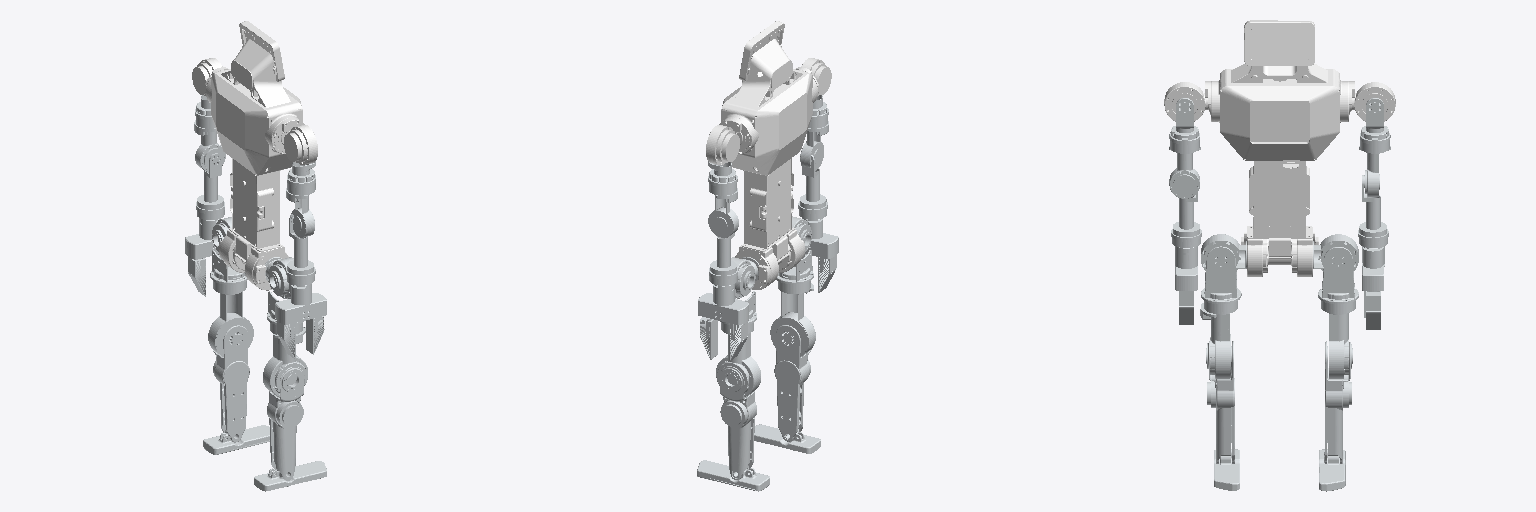
--- Facts derived from the render (not from the file) ---
Views: 3 orthographic renders of the robot side by side, from view 1: azimuth 30°, elevation 25°; view 2: azimuth 150°, elevation 25°; view 3: azimuth 270°, elevation 25°.
Model gpr with 22 links and 21 joints (10 revolute, 11 fixed), rooted at base, posed every joint at zero.
Links seen in each view (by area): view 1: body1-part, leg3_shell2, leg3_shell22, hand_shell_2, hand_shell, leg2_shell, leg2_shell_2, arm3_shell, foot3, shoulder_2, arm3_shell2, foot1 (+7 smaller); view 2: body1-part, leg3_shell22, leg3_shell2, hand_shell, leg2_shell_2, leg2_shell, hand_shell_2, foot1, shoulder, arm3_shell2, foot3, leg1_shell3 (+7 smaller); view 3: body1-part, leg1_shell3, leg1_shell, leg3_shell22, leg3_shell2, hand_shell, hand_shell_2, leg2_shell, leg2_shell_2, arm1_top_2, arm1_top, arm3_shell (+9 smaller).
Boxes of the visible links, <box> form: body1-part: <box>205,21,303,290</box>; leg3_shell2: <box>213,325,249,442</box>; leg3_shell22: <box>267,367,304,480</box>; hand_shell_2: <box>275,284,326,359</box>; hand_shell: <box>185,218,219,296</box>; leg2_shell: <box>208,292,253,356</box>; leg2_shell_2: <box>263,333,307,397</box>; arm3_shell: <box>196,153,224,219</box>; foot3: <box>254,461,326,491</box>; shoulder_2: <box>281,124,317,164</box>; arm3_shell2: <box>286,214,315,285</box>; foot1: <box>203,425,269,454</box>; body1-part: <box>719,21,818,289</box>; leg3_shell22: <box>774,325,811,441</box>; leg3_shell2: <box>720,366,756,479</box>; hand_shell: <box>698,284,748,360</box>; leg2_shell_2: <box>770,292,815,356</box>; leg2_shell: <box>716,333,760,396</box>; hand_shell_2: <box>802,218,838,292</box>; foot1: <box>697,460,769,491</box>; shoulder: <box>706,125,742,164</box>; arm3_shell2: <box>798,155,827,219</box>; foot3: <box>754,424,820,453</box>; leg1_shell3: <box>776,250,813,293</box>; body1-part: <box>1205,20,1354,276</box>; leg1_shell3: <box>1200,246,1241,319</box>; leg1_shell: <box>1318,247,1358,313</box>; leg3_shell22: <box>1207,341,1234,463</box>; leg3_shell2: <box>1324,341,1351,463</box>; hand_shell: <box>1362,246,1384,329</box>; hand_shell_2: <box>1175,246,1197,324</box>; leg2_shell: <box>1329,313,1352,378</box>; leg2_shell_2: <box>1206,313,1230,378</box>; arm1_top_2: <box>1169,98,1200,153</box>; arm1_top: <box>1359,98,1390,153</box>; arm3_shell: <box>1358,175,1388,247</box>.
Size in the robot's own frame: 0.2286 by 0.62 by 1.33 metres.
21 mesh visuals loaded from 21 distinct referenced files (21 binary STL).

robot.urdf — gpr:
<robot name="gpr">
  <link name="base">
    <inertial>
      <origin rpy="0 0 0" xyz="0 0 0" />
      <mass value="0.001" />
      <inertia ixx="0.000001" ixy="0" ixz="0" iyy="0.000001" iyz="0" izz="0.000001" />
    </inertial>
  </link>
  <joint name="floating_base" type="fixed">
    <origin rpy="-1.57 3.14 0" xyz="0 0 0" />
    <parent link="base" />
    <child link="body1-part" />
  </joint>
  <link name="body1-part">
    <visual>
      <origin xyz="0 0 0" rpy="0 0 0" />
      <geometry>
        <mesh filename="meshes/body1-part.stl" />
      </geometry>
      <material name="body1-part_material">
        <color rgba="1 1 1 1" />
      </material>
    </visual>
    <collision>
      <origin xyz="0 0 0" rpy="0 0 0" />
      <geometry>
        <mesh filename="meshes/body1-part.stl" />
      </geometry>
    </collision>
    <inertial>
      <mass value="11.923537116999997" />
      <inertia ixx="0.6094741999000397" iyy="0.11412840895337525" izz="0.5177574671371762" ixy="-0.003005393131294116" ixz="9.390121873576349e-05" iyz="-0.0001512369384358593" />
      <origin xyz="-0.009887620467425699 -0.16327683151976047 8.549441372045392e-06" rpy="0 0 0" />
    </inertial>
  </link>
  <joint name="Revolute_2" type="fixed">
    <origin xyz="-1.0603759e-05 0.018089562050771318 0.18749980999999996" rpy="3.1415926071795868 -2.220446049250313e-15 3.1415926071795868" />
    <parent link="body1-part" />
    <child link="shoulder" />
    <limit effort="80" velocity="5" lower="0" upper="3.1415927" />
    <axis xyz="0 0 1" />
  </joint>
  <link name="shoulder">
    <visual>
      <origin xyz="0 0 0" rpy="0 0 0" />
      <geometry>
        <mesh filename="meshes/shoulder.stl" />
      </geometry>
      <material name="shoulder_material">
        <color rgba="1 1 1 1" />
      </material>
    </visual>
    <collision>
      <origin xyz="0 0 0" rpy="0 0 0" />
      <geometry>
        <mesh filename="meshes/shoulder.stl" />
      </geometry>
    </collision>
    <inertial>
      <mass value="1.10769407" />
      <inertia ixx="0.0014821199757753395" iyy="0.001040851235294" izz="0.0009860091656447962" ixy="1.624746856405567e-08" ixz="-3.127980791901951e-06" iyz="6.45482418632759e-09" />
      <origin xyz="-0.002143291631555541 5.49830379711586e-05 -0.06646243607358847" rpy="0 0 0" />
    </inertial>
  </link>
  <joint name="Revolute_1" type="fixed">
    <origin xyz="-1.0603759e-05 0.018089564 -0.18750019" rpy="0.0 0.0 -3.1415926071795863" />
    <parent link="body1-part" />
    <child link="shoulder_2" />
    <limit effort="80" velocity="5" lower="0" upper="3.1415927" />
    <axis xyz="0 0 1" />
  </joint>
  <link name="shoulder_2">
    <visual>
      <origin xyz="0 0 0" rpy="0 0 0" />
      <geometry>
        <mesh filename="meshes/shoulder_2.stl" />
      </geometry>
      <material name="shoulder_material_2">
        <color rgba="1 1 1 1" />
      </material>
    </visual>
    <collision>
      <origin xyz="0 0 0" rpy="0 0 0" />
      <geometry>
        <mesh filename="meshes/shoulder_2.stl" />
      </geometry>
    </collision>
    <inertial>
      <mass value="0.80769287" />
      <inertia ixx="0.0011792586289751219" iyy="0.0008139382028437117" izz="0.0007595397085139113" ixy="-1.4806694512879907e-08" ixz="-2.0126957646616794e-06" iyz="-5.88160584234692e-09" />
      <origin xyz="-0.0011728635136190931 -5.4507593837340316e-05 -0.06607710354553893" rpy="0 0 0" />
    </inertial>
  </link>
  <joint name="L_hip_y" type="revolute">
    <origin xyz="-0.008010608503738428 -0.43201043179234816 0.0877000068648673" rpy="-3.1415925071795874 4.641020678874952e-08 -3.1415926535897913" />
    <parent link="body1-part" />
    <child link="leg0_shell" />
    <limit effort="100" velocity="15" lower="-1.5707963" upper="1.5707963" />
    <axis xyz="0 0 -1" />
  <dynamics damping="0.0" friction="0" /></joint>
  <link name="leg0_shell">
    <visual>
      <origin xyz="0 0 0" rpy="0 0 0" />
      <geometry>
        <mesh filename="meshes/leg0_shell.stl" />
      </geometry>
      <material name="leg0_shell_material">
        <color rgba="0.89803922 0.91764706 0.92941176 1" />
      </material>
    </visual>
    <collision>
      <origin xyz="0 0 0" rpy="0 0 0" />
      <geometry>
        <mesh filename="meshes/leg0_shell.stl" />
      </geometry>
    </collision>
    <inertial>
      <mass value="1.3234480570000002" />
      <inertia ixx="0.0018858182013085161" iyy="0.001424832171389183" izz="0.0012997049050806671" ixy="-4.528695728174104e-12" ixz="7.006193648128378e-06" iyz="-9.656589772176694e-13" />
      <origin xyz="-0.003746324486178213 -5.30704079226868e-10 -0.06812512159159122" rpy="0 0 0" />
    </inertial>
  </link>
  <joint name="R_hip_y" type="revolute">
    <origin xyz="-0.008010600340183055 -0.4320104467591277 -0.08819999313513187" rpy="9.99999991702083e-08 4.641020678874952e-08 -3.1415926535897913" />
    <parent link="body1-part" />
    <child link="leg0_shell_2" />
    <limit effort="100" velocity="15" lower="-1.5707963" upper="1.5707963" />
    <axis xyz="0 0 -1" />
  <dynamics damping="0.0" friction="0" /></joint>
  <link name="leg0_shell_2">
    <visual>
      <origin xyz="0 0 0" rpy="0 0 0" />
      <geometry>
        <mesh filename="meshes/leg0_shell_2.stl" />
      </geometry>
      <material name="leg0_shell_material_2">
        <color rgba="0.89803922 0.91764706 0.92941176 1" />
      </material>
    </visual>
    <collision>
      <origin xyz="0 0 0" rpy="0 0 0" />
      <geometry>
        <mesh filename="meshes/leg0_shell_2.stl" />
      </geometry>
    </collision>
    <inertial>
      <mass value="1.3234480570000002" />
      <inertia ixx="0.0018858182013085161" iyy="0.001424832171389183" izz="0.0012997049050806671" ixy="-4.528695728174104e-12" ixz="7.006193648128378e-06" iyz="-9.656589772176694e-13" />
      <origin xyz="-0.003746324486178213 -5.30704079226868e-10 -0.06812512159159122" rpy="0 0 0" />
    </inertial>
  </link>
  <joint name="Revolute_4" type="fixed">
    <origin xyz="0.022511964 5.627838501275855e-05 -0.06749999993301277" rpy="1.5707963 0.0 1.5707963" />
    <parent link="shoulder" />
    <child link="arm1_top" />
    <limit effort="80" velocity="5" lower="-0.47996554" upper="3.6302848" />
    <axis xyz="0 0 -1" />
  </joint>
  <link name="arm1_top">
    <visual>
      <origin xyz="0 0 0" rpy="0 0 0" />
      <geometry>
        <mesh filename="meshes/arm1_top.stl" />
      </geometry>
      <material name="arm1_top_material">
        <color rgba="0.89803922 0.91764706 0.92941176 1" />
      </material>
    </visual>
    <collision>
      <origin xyz="0 0 0" rpy="0 0 0" />
      <geometry>
        <mesh filename="meshes/arm1_top.stl" />
      </geometry>
    </collision>
    <inertial>
      <mass value="0.6485195170000001" />
      <inertia ixx="0.0005377398175310449" iyy="0.001254174807555457" izz="0.0012373492426626042" ixy="8.437687433345447e-05" ixz="-0.00020918694211119067" iyz="7.877578190500829e-06" />
      <origin xyz="-0.10491673239989494 0.003102558814221409 -0.019599933577279183" rpy="0 0 0" />
    </inertial>
  </link>
  <joint name="Revolute_3" type="fixed">
    <origin xyz="0.022511964 -5.627838501275855e-05 -0.06749999993301277" rpy="1.5707963999999996 -2.220446049250313e-16 -1.5707963000000003" />
    <parent link="shoulder_2" />
    <child link="arm1_top_2" />
    <limit effort="80" velocity="5" lower="-0.47996554" upper="3.6302848" />
    <axis xyz="0 0 1" />
  </joint>
  <link name="arm1_top_2">
    <visual>
      <origin xyz="0 0 0" rpy="0 0 0" />
      <geometry>
        <mesh filename="meshes/arm1_top_2.stl" />
      </geometry>
      <material name="arm1_top_2_material">
        <color rgba="0.89803922 0.91764706 0.92941176 1" />
      </material>
    </visual>
    <collision>
      <origin xyz="0 0 0" rpy="0 0 0" />
      <geometry>
        <mesh filename="meshes/arm1_top_2.stl" />
      </geometry>
    </collision>
    <inertial>
      <mass value="0.648518913" />
      <inertia ixx="0.0005377391149778151" iyy="0.001254173379289188" izz="0.0012373477976337262" ixy="8.437443480959081e-05" ixz="0.00020918783773267628" iyz="-7.877191877842607e-06" />
      <origin xyz="-0.10491675887597174 0.0031026275866948847 0.01859990424787625" rpy="0 0 0" />
    </inertial>
  </link>
  <joint name="L_hip_x" type="revolute">
    <origin xyz="0.02649999999999997 -1.5165911463888016e-09 -0.06950000151659115" rpy="-1.5707963 0.0 1.5707963" />
    <parent link="leg0_shell" />
    <child link="leg1_shell" />
    <limit effort="40" velocity="15" lower="-0.34906585" upper="3.1852259" />
    <axis xyz="0 0 1" />
  <dynamics damping="0.0" friction="0" /></joint>
  <link name="leg1_shell">
    <visual>
      <origin xyz="0 0 0" rpy="0 0 0" />
      <geometry>
        <mesh filename="meshes/leg1_shell.stl" />
      </geometry>
      <material name="leg1_shell_material">
        <color rgba="0.89803922 0.91764706 0.92941176 1" />
      </material>
    </visual>
    <collision>
      <origin xyz="0 0 0" rpy="0 0 0" />
      <geometry>
        <mesh filename="meshes/leg1_shell.stl" />
      </geometry>
    </collision>
    <inertial>
      <mass value="1.360769512" />
      <inertia ixx="0.0016615513462477837" iyy="0.002821853448229639" izz="0.002845662161278446" ixy="0.00017383610571493636" ixz="0.0003020245997305346" iyz="-9.263147597316123e-06" />
      <origin xyz="-0.11647102759639934 0.0031434685984449424 0.025411038661602842" rpy="0 0 0" />
    </inertial>
  </link>
  <joint name="R_hip_x" type="revolute">
    <origin xyz="0.02649999999999997 -1.5165911463888016e-09 -0.06950000151659115" rpy="1.5707963 -4.641020634466031e-08 -1.5707963535897922" />
    <parent link="leg0_shell_2" />
    <child link="leg1_shell3" />
    <limit effort="40" velocity="15" lower="-0.34906585" upper="3.1852259" />
    <axis xyz="0 0 1" />
  <dynamics damping="0.0" friction="0" /></joint>
  <link name="leg1_shell3">
    <visual>
      <origin xyz="0 0 0" rpy="0 0 0" />
      <geometry>
        <mesh filename="meshes/leg1_shell3.stl" />
      </geometry>
      <material name="leg1_shell3_material">
        <color rgba="0.89803922 0.91764706 0.92941176 1" />
      </material>
    </visual>
    <collision>
      <origin xyz="0 0 0" rpy="0 0 0" />
      <geometry>
        <mesh filename="meshes/leg1_shell3.stl" />
      </geometry>
    </collision>
    <inertial>
      <mass value="1.360769362" />
      <inertia ixx="0.0016615511179272748" iyy="0.0027972595171853708" izz="0.0028210681136601255" ixy="-0.00016529929515746682" ixz="0.00030152306354767384" iyz="9.263236451942972e-06" />
      <origin xyz="-0.11629451715520467 -0.0031434770887895404 0.02541103395361007" rpy="0 0 0" />
    </inertial>
  </link>
  <joint name="Revolute_5" type="fixed">
    <origin xyz="-0.13949999999999996 -1.4619215099879723e-09 -0.02349999915596076" rpy="-1.5707963535897926 -2.6794894969484062e-08 -1.5707962803846895" />
    <parent link="arm1_top" />
    <child link="arm2_shell" />
    <limit effort="80" velocity="5" lower="-1.5707963" upper="1.5707963" />
    <axis xyz="0 0 1" />
  </joint>
  <link name="arm2_shell">
    <visual>
      <origin xyz="0 0 0" rpy="0 0 0" />
      <geometry>
        <mesh filename="meshes/arm2_shell.stl" />
      </geometry>
      <material name="arm2_shell_material">
        <color rgba="0.89803922 0.91764706 0.92941176 1" />
      </material>
    </visual>
    <collision>
      <origin xyz="0 0 0" rpy="0 0 0" />
      <geometry>
        <mesh filename="meshes/arm2_shell.stl" />
      </geometry>
    </collision>
    <inertial>
      <mass value="0.51101595" />
      <inertia ixx="0.0006782501033956834" iyy="0.0005353980560191654" izz="0.000254883921623482" ixy="0.0" ixz="-6.066717667565765e-06" iyz="0.0" />
      <origin xyz="-0.0063350323524262436 0.0 -0.09042107492219607" rpy="0 0 0" />
    </inertial>
  </link>
  <joint name="Revolute_6" type="fixed">
    <origin xyz="-0.13949999999999999 0.0 0.022499999155960758" rpy="-3.1415926071795863 1.5707963 0.0" />
    <parent link="arm1_top_2" />
    <child link="arm2_shell_2" />
    <limit effort="80" velocity="5" lower="-1.5707963" upper="1.5707963" />
    <axis xyz="0 0 -1" />
  </joint>
  <link name="arm2_shell_2">
    <visual>
      <origin xyz="0 0 0" rpy="0 0 0" />
      <geometry>
        <mesh filename="meshes/arm2_shell_2.stl" />
      </geometry>
      <material name="arm2_shell_material_2">
        <color rgba="0.89803922 0.91764706 0.92941176 1" />
      </material>
    </visual>
    <collision>
      <origin xyz="0 0 0" rpy="0 0 0" />
      <geometry>
        <mesh filename="meshes/arm2_shell_2.stl" />
      </geometry>
    </collision>
    <inertial>
      <mass value="0.51101595" />
      <inertia ixx="0.0005353980541370302" iyy="0.0006782501015135483" izz="0.000254883921623482" ixy="-2.5919842726528573e-12" ixz="9.410675605202726e-13" iyz="6.066715075581427e-06" />
      <origin xyz="-2.42984583304936e-10 -0.006335032352426242 0.08992107467921147" rpy="0 0 0" />
    </inertial>
  </link>
  <joint name="L_hip_z" type="revolute">
    <origin xyz="-0.15649999999999997 0.0 0.027499998483408852" rpy="-0.0 1.5707963 0.0" />
    <parent link="leg1_shell" />
    <child link="leg2_shell" />
    <limit effort="40" velocity="15" lower="-1.5707963" upper="1.5707963" />
    <axis xyz="0 0 1" />
  <dynamics damping="0.0" friction="0" /></joint>
  <link name="leg2_shell">
    <visual>
      <origin xyz="0 0 0" rpy="0 0 0" />
      <geometry>
        <mesh filename="meshes/leg2_shell.stl" />
      </geometry>
      <material name="leg2_shell_material">
        <color rgba="0.89803922 0.91764706 0.92941176 1" />
      </material>
    </visual>
    <collision>
      <origin xyz="0 0 0" rpy="0 0 0" />
      <geometry>
        <mesh filename="meshes/leg2_shell.stl" />
      </geometry>
    </collision>
    <inertial>
      <mass value="1.820922667" />
      <inertia ixx="0.003118121982315594" iyy="0.004225341330146898" izz="0.0020643672406963944" ixy="-6.676045962463134e-09" ixz="-2.2416298133304992e-08" iyz="-3.3507405748121275e-05" />
      <origin xyz="4.0855477721508534e-07 0.0005316844118462806 -0.13730778343676694" rpy="0 0 0" />
    </inertial>
  </link>
  <joint name="R_hip_z" type="revolute">
    <origin xyz="-0.15649999999999997 0.0 0.027499998483408852" rpy="-3.1415926535897922 -1.5707962732050302 0.0" />
    <parent link="leg1_shell3" />
    <child link="leg2_shell_2" />
    <limit effort="40" velocity="15" lower="-1.5707963" upper="1.5707963" />
    <axis xyz="0 0 1" />
  <dynamics damping="0.0" friction="0" /></joint>
  <link name="leg2_shell_2">
    <visual>
      <origin xyz="0 0 0" rpy="0 0 0" />
      <geometry>
        <mesh filename="meshes/leg2_shell_2.stl" />
      </geometry>
      <material name="leg2_shell_material_2">
        <color rgba="0.89803922 0.91764706 0.92941176 1" />
      </material>
    </visual>
    <collision>
      <origin xyz="0 0 0" rpy="0 0 0" />
      <geometry>
        <mesh filename="meshes/leg2_shell_2.stl" />
      </geometry>
    </collision>
    <inertial>
      <mass value="1.820922667" />
      <inertia ixx="0.003118121982315594" iyy="0.004225341330146898" izz="0.0020643672406963944" ixy="-6.676045962463134e-09" ixz="-2.2416298133304992e-08" iyz="-3.3507405748121275e-05" />
      <origin xyz="4.0855477721508534e-07 0.0005316844118462806 -0.13730778343676694" rpy="0 0 0" />
    </inertial>
  </link>
  <joint name="Revolute_8" type="fixed">
    <origin xyz="-0.026000000000000002 0.0 -0.09799999977224338" rpy="-3.1415926071795863 -1.5707963 0.0" />
    <parent link="arm2_shell" />
    <child link="arm3_shell" />
    <limit effort="80" velocity="5" lower="-2.0943951" upper="2.0943951" />
    <axis xyz="0 0 1" />
  </joint>
  <link name="arm3_shell">
    <visual>
      <origin xyz="0 0 0" rpy="0 0 0" />
      <geometry>
        <mesh filename="meshes/arm3_shell.stl" />
      </geometry>
      <material name="arm3_shell_material">
        <color rgba="0.89803922 0.91764706 0.92941176 1" />
      </material>
    </visual>
    <collision>
      <origin xyz="0 0 0" rpy="0 0 0" />
      <geometry>
        <mesh filename="meshes/arm3_shell.stl" />
      </geometry>
    </collision>
    <inertial>
      <mass value="0.57887479" />
      <inertia ixx="0.00042824885963562435" iyy="0.0013607750713956906" izz="0.001338486101760066" ixy="-4.3783991313169864e-14" ixz="0.0001451523224848915" iyz="4.4680616691403507e-13" />
      <origin xyz="-0.14008673576280925 -3.715266367753274e-10 0.019422482836149137" rpy="0 0 0" />
    </inertial>
  </link>
  <joint name="Revolute_7" type="fixed">
    <origin xyz="2.2775662092411332e-10 -0.026000000000000002 0.0975" rpy="-1.5707963071795865 1.5707963 0.0" />
    <parent link="arm2_shell_2" />
    <child link="arm3_shell2" />
    <limit effort="80" velocity="5" lower="-2.0943951" upper="2.0943951" />
    <axis xyz="0 0 1" />
  </joint>
  <link name="arm3_shell2">
    <visual>
      <origin xyz="0 0 0" rpy="0 0 0" />
      <geometry>
        <mesh filename="meshes/arm3_shell2.stl" />
      </geometry>
      <material name="arm3_shell2_material">
        <color rgba="0.89803922 0.91764706 0.92941176 1" />
      </material>
    </visual>
    <collision>
      <origin xyz="0 0 0" rpy="0 0 0" />
      <geometry>
        <mesh filename="meshes/arm3_shell2.stl" />
      </geometry>
    </collision>
    <inertial>
      <mass value="0.57887479" />
      <inertia ixx="0.00042824885963562435" iyy="0.0013607750713956906" izz="0.001338486101760066" ixy="-4.3783991313169864e-14" ixz="0.0001451523224848915" iyz="4.4680616691403507e-13" />
      <origin xyz="-0.14008673576280925 -3.715266367753274e-10 0.019422482836149137" rpy="0 0 0" />
    </inertial>
  </link>
  <joint name="L_knee" type="revolute">
    <origin xyz="0.0 0.0342 -0.14250000009378214" rpy="1.5707963000000003 0.0 0.0" />
    <parent link="leg2_shell" />
    <child link="leg3_shell2" />
    <limit effort="100" velocity="15" lower="-1.57" upper="0" />
    <axis xyz="0 0 1" />
  <dynamics damping="0.0" friction="0" /></joint>
  <link name="leg3_shell2">
    <visual>
      <origin xyz="0 0 0" rpy="0 0 0" />
      <geometry>
        <mesh filename="meshes/leg3_shell2.stl" />
      </geometry>
      <material name="leg3_shell2_material">
        <color rgba="0.89803922 0.91764706 0.92941176 1" />
      </material>
    </visual>
    <collision>
      <origin xyz="0 0 0" rpy="0 0 0" />
      <geometry>
        <mesh filename="meshes/leg3_shell2.stl" />
      </geometry>
    </collision>
    <inertial>
      <mass value="1.179677561" />
      <inertia ixx="0.007528021940166368" iyy="0.0011236273981275156" izz="0.007505076656997991" ixy="6.871058258502185e-05" ixz="-1.92682149888721e-05" iyz="0.00022981113471710275" />
      <origin xyz="0.0010329853873719736 -0.1254795525920513 0.03667110282750395" rpy="0 0 0" />
    </inertial>
  </link>
  <joint name="R_knee" type="revolute">
    <origin xyz="0.0 0.0342 -0.14250000009378214" rpy="1.5707963000000003 0.0 0.0" />
    <parent link="leg2_shell_2" />
    <child link="leg3_shell22" />
    <limit effort="100" velocity="15" lower="0" upper="1.57" />
    <axis xyz="0 0 1" />
  <dynamics damping="0.0" friction="0" /></joint>
  <link name="leg3_shell22">
    <visual>
      <origin xyz="0 0 0" rpy="0 0 0" />
      <geometry>
        <mesh filename="meshes/leg3_shell22.stl" />
      </geometry>
      <material name="leg3_shell22_material">
        <color rgba="0.89803922 0.91764706 0.92941176 1" />
      </material>
    </visual>
    <collision>
      <origin xyz="0 0 0" rpy="0 0 0" />
      <geometry>
        <mesh filename="meshes/leg3_shell22.stl" />
      </geometry>
    </collision>
    <inertial>
      <mass value="1.179683991" />
      <inertia ixx="0.007528039668357469" iyy="0.0011236329917092309" izz="0.007505094295682782" ixy="-6.871642858641451e-05" ixz="1.92691896999385e-05" iyz="0.00022981283551319127" />
      <origin xyz="-0.0010330286803835712 -0.12547979367732118 0.036671195513248635" rpy="0 0 0" />
    </inertial>
  </link>
  <joint name="Revolute_16" type="fixed">
    <origin xyz="-0.18149999999999997 -1.4619215099879723e-09 0.02150000084403924" rpy="-1.5707963535897926 -2.6794894969484062e-08 -1.5707962803846895" />
    <parent link="arm3_shell" />
    <child link="hand_shell" />
    <limit effort="80" velocity="5" lower="0" upper="6.2831853" />
    <axis xyz="0 0 1" />
  </joint>
  <link name="hand_shell">
    <visual>
      <origin xyz="0 0 0" rpy="0 0 0" />
      <geometry>
        <mesh filename="meshes/hand_shell.stl" />
      </geometry>
      <material name="hand_shell_material">
        <color rgba="0.89803922 0.91764706 0.92941176 1" />
      </material>
    </visual>
    <collision>
      <origin xyz="0 0 0" rpy="0 0 0" />
      <geometry>
        <mesh filename="meshes/hand_shell.stl" />
      </geometry>
    </collision>
    <inertial>
      <mass value="0.7933517460000001" />
      <inertia ixx="0.0022699583293911804" iyy="0.003103921860540743" izz="0.0012814843053662985" ixy="-1.3636343089243533e-05" ixz="-4.67289550272549e-05" iyz="2.833257597547138e-05" />
      <origin xyz="0.000708716962895658 0.0005107853118896094 -0.07640603184938456" rpy="0 0 0" />
    </inertial>
  </link>
  <joint name="Revolute_15" type="fixed">
    <origin xyz="-0.18149999999999997 -1.4619215099879723e-09 0.02150000084403924" rpy="-1.5707963535897926 -2.6794894969484062e-08 -1.5707962803846895" />
    <parent link="arm3_shell2" />
    <child link="hand_shell_2" />
    <limit effort="80" velocity="5" lower="0" upper="6.2831853" />
    <axis xyz="0 0 1" />
  </joint>
  <link name="hand_shell_2">
    <visual>
      <origin xyz="0 0 0" rpy="0 0 0" />
      <geometry>
        <mesh filename="meshes/hand_shell_2.stl" />
      </geometry>
      <material name="hand_shell_material_2">
        <color rgba="0.89803922 0.91764706 0.92941176 1" />
      </material>
    </visual>
    <collision>
      <origin xyz="0 0 0" rpy="0 0 0" />
      <geometry>
        <mesh filename="meshes/hand_shell_2.stl" />
      </geometry>
    </collision>
    <inertial>
      <mass value="0.7933517460000001" />
      <inertia ixx="0.0022699583293911804" iyy="0.003103921860540743" izz="0.0012814843053662985" ixy="-1.3636343089243533e-05" ixz="-4.67289550272549e-05" iyz="2.833257597547138e-05" />
      <origin xyz="0.000708716962895658 0.0005107853118896094 -0.07640603184938456" rpy="0 0 0" />
    </inertial>
  </link>
  <joint name="R_ankle_y" type="revolute">
    <origin xyz="1.0767167917674625e-08 -0.29999999865410376 0.027200000000000002" rpy="-3.1415926071795868 2.220446049250313e-16 -3.1415926071795868" />
    <parent link="leg3_shell22" />
    <child link="foot3" />
    <limit effort="17" velocity="15" lower="-0.6981317" upper="0.6981317" />
    <axis xyz="0 0 1" />
  <dynamics damping="0.0" friction="0.1" /></joint>
  <link name="foot3">
    <visual>
      <origin xyz="0 0 0" rpy="0 0 0" />
      <geometry>
        <mesh filename="meshes/foot3.stl" />
      </geometry>
      <material name="foot3_material">
        <color rgba="0.89803922 0.91764706 0.92941176 1" />
      </material>
    </visual>
    <collision>
      <origin xyz="0 0 0" rpy="0 0 0" />
      <geometry>
        <mesh filename="meshes/foot3.stl" />
      </geometry>
    </collision>
    <inertial>
      <mass value="0.5457471700000001" />
      <inertia ixx="0.0002606552397539849" iyy="0.002028939072658483" izz="0.0018716018719932026" ixy="3.69693387246926e-05" ixz="3.095371968865276e-05" iyz="-3.6446932298433373e-06" />
      <origin xyz="0.02102642215063872 -0.018472025092617035 -0.023695689532891608" rpy="0 0 0" />
    </inertial>
  </link>
  <joint name="L_ankle_y" type="revolute">
    <origin xyz="0.0 -0.30000000004641003 0.07019999118206069" rpy="9.282041357749903e-08 0.0 0.0" />
    <parent link="leg3_shell2" />
    <child link="foot1" />
    <limit effort="17" velocity="15" lower="-0.6981317" upper="0.6981317" />
    <axis xyz="0 0 -1" />
  <dynamics damping="0.0" friction="0.1" /></joint>
  <link name="foot1">
    <visual>
      <origin xyz="0 0 0" rpy="0 0 0" />
      <geometry>
        <mesh filename="meshes/foot1.stl" />
      </geometry>
      <material name="foot1_material">
        <color rgba="0.89803922 0.91764706 0.92941176 1" />
      </material>
    </visual>
    <collision>
      <origin xyz="0 0 0" rpy="0 0 0" />
      <geometry>
        <mesh filename="meshes/foot1.stl" />
      </geometry>
    </collision>
    <inertial>
      <mass value="0.54574734" />
      <inertia ixx="0.0002606552399228641" iyy="0.0020289393205482377" izz="0.0018716021578520196" ixy="3.696944831750264e-05" ixz="-3.095376367976456e-05" iyz="3.6446976195673977e-06" />
      <origin xyz="0.021026404502789243 -0.018472020400304597 -0.01930430937248649" rpy="0 0 0" />
    </inertial>
  </link>
</robot>
